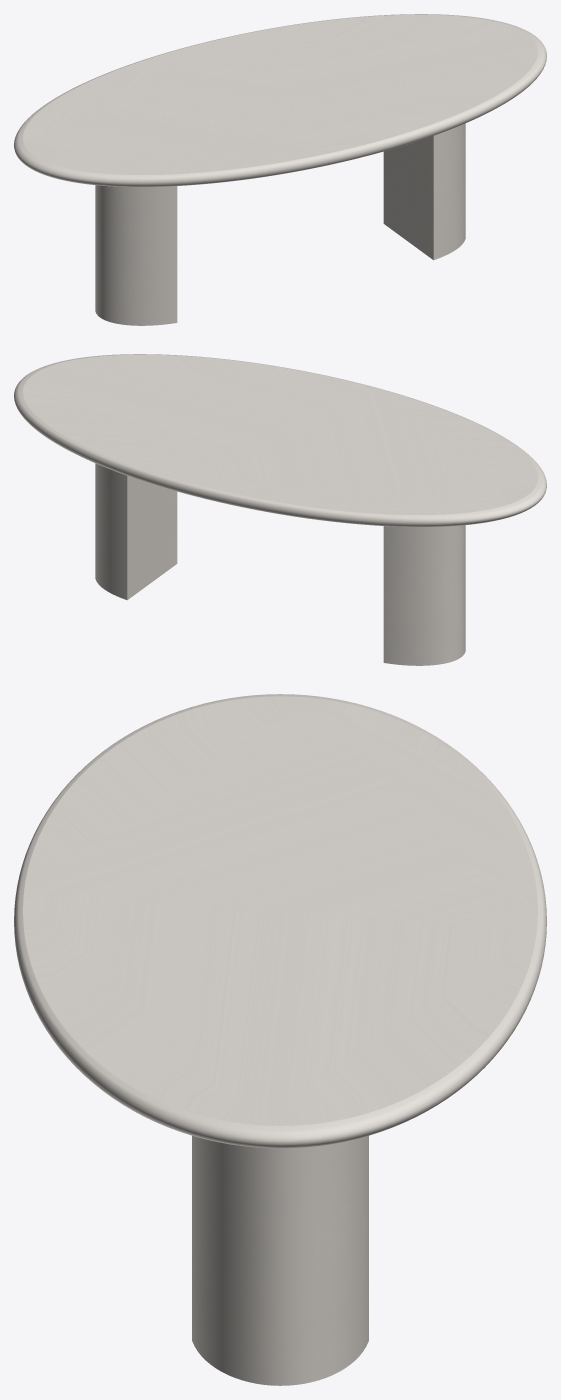
The model's file is pearlwhite_ellips_round_hillside.glb.
3 renders of one model, top to bottom at view 1: azimuth 30°, elevation 25°; view 2: azimuth 150°, elevation 25°; view 3: azimuth 270°, elevation 25°, orthographic. The views are drawn at different scales.
Visible parts, largest first — view 1: round_ellips, hillside; view 2: round_ellips, hillside; view 3: round_ellips, hillside.
Boxes of the visible parts, x1,y1,x2,y2 form: round_ellips: (14,14,546,186); hillside: (95,123,465,325); round_ellips: (14,354,546,526); hillside: (95,463,465,665); round_ellips: (14,694,546,1148); hillside: (192,1136,368,1385).
Bounding box in the file's own units: 7.5 × 2.5 × 3.8.
Materials: 1 (1 with a texture image).
